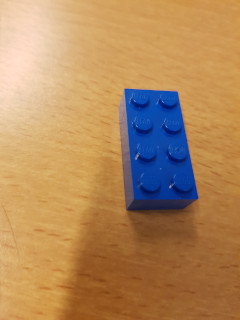2x4 blue: (117, 85, 200, 213)
